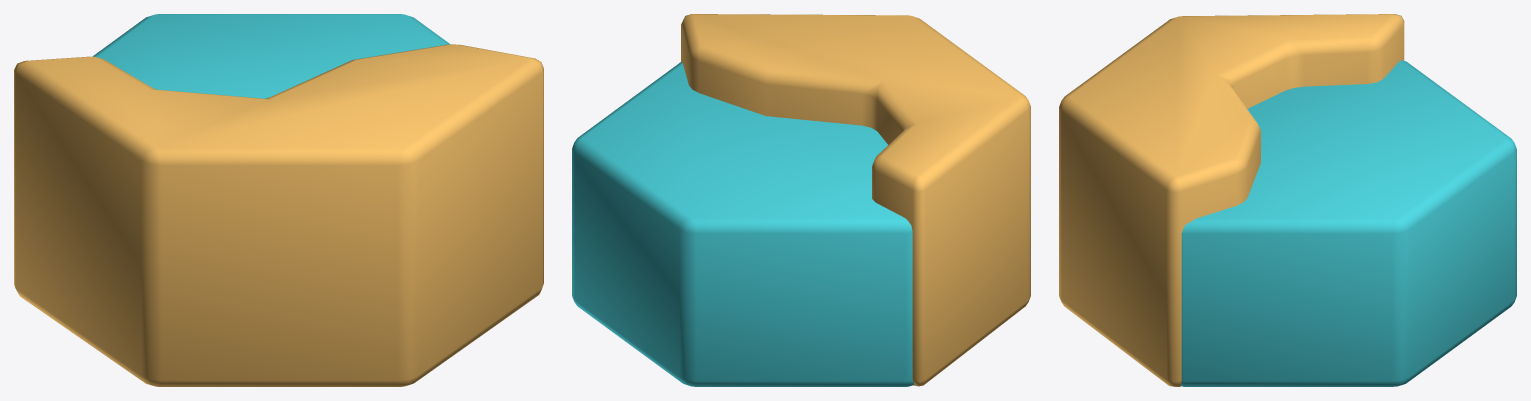
The model's file is sand_water2.glb.
3 views of the same model, side by side, from view 1: azimuth 30°, elevation 25°; view 2: azimuth 150°, elevation 25°; view 3: azimuth 270°, elevation 25° (orthographic). The views are drawn at different scales.
Parts seen in each view (by area): view 1: sand_water2; view 2: sand_water2; view 3: sand_water2.
Boxes of the visible parts, left/top/right/bottom form: sand_water2: left=14, top=14, right=543, bottom=386; sand_water2: left=572, top=14, right=1030, bottom=386; sand_water2: left=1059, top=14, right=1516, bottom=386.
Size of the model in its own units: 7.04 by 4 by 7.9.
